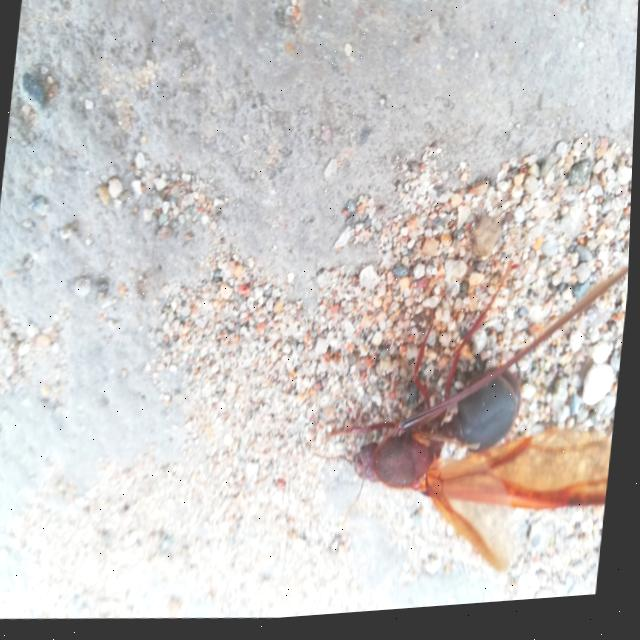Alive-Female-Alate: (305, 241, 632, 600)
